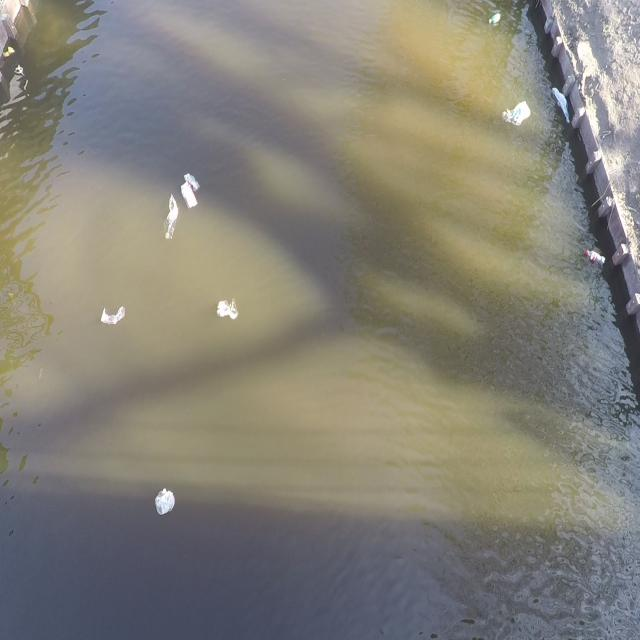Bouteille plastique: (585, 249, 605, 267), (486, 12, 502, 26)
Sac plastique: (500, 100, 532, 128)
